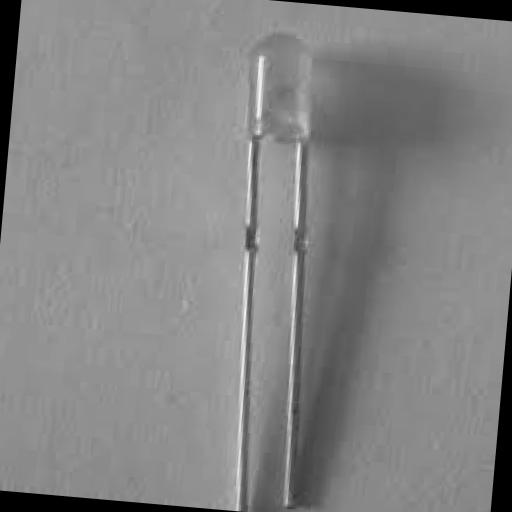LED: (165, 17, 390, 512)
